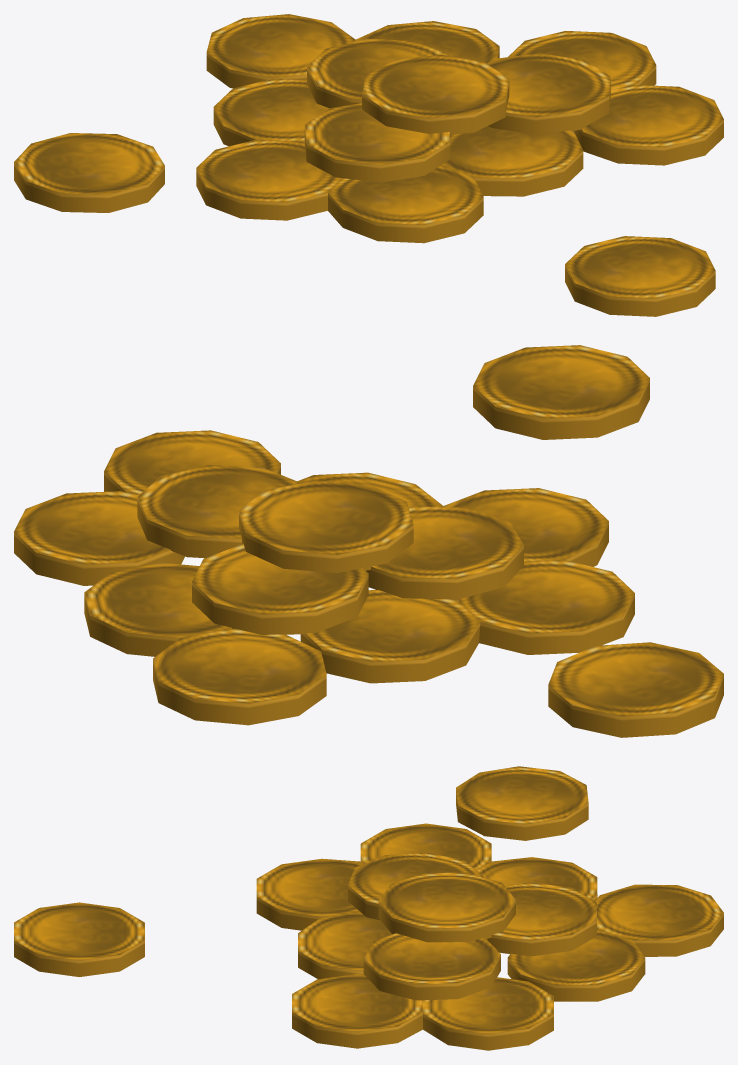
Rendered from Droppen_6001_FBX.FBX.
3 renders of one model, top to bottom at view 1: azimuth 30°, elevation 25°; view 2: azimuth 150°, elevation 25°; view 3: azimuth 270°, elevation 25°, orthographic. The views are drawn at different scales.
Visible parts, largest first — view 1: s7_wj_jinbi001; view 2: s7_wj_jinbi001; view 3: s7_wj_jinbi001.
Part boxes in pixels (x1,y1,x2,y2): s7_wj_jinbi001: [14, 14, 723, 316]; s7_wj_jinbi001: [14, 345, 723, 737]; s7_wj_jinbi001: [14, 766, 723, 1050].
Bounding box in the file's own units: 0.698 × 0.0567 × 0.7819.
